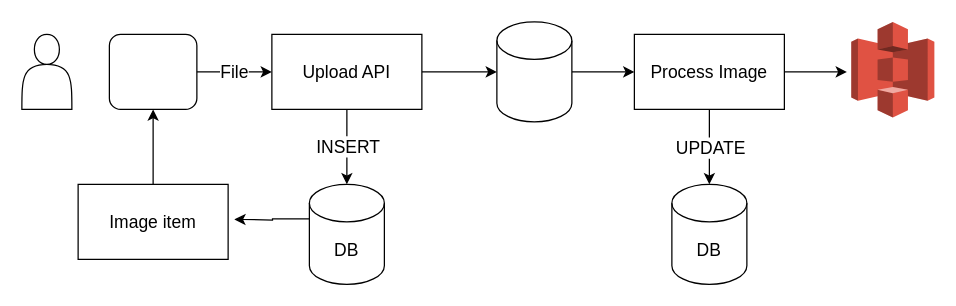
Image size: 956x306. Some labels were removed from this diagram. The shapes that lost their labels are listed below. From the top down, each one's box as (x1, y1, x2, y2) in pixels, then its label:
(21, 33, 72, 109): User
(108, 33, 197, 109): Frontend
(496, 21, 572, 122): Redis Queue
